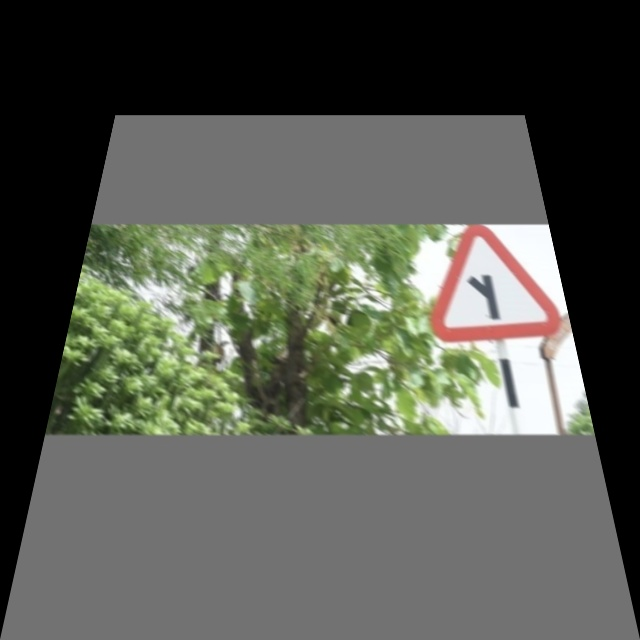Y_Intersection: (425, 227, 557, 340)
